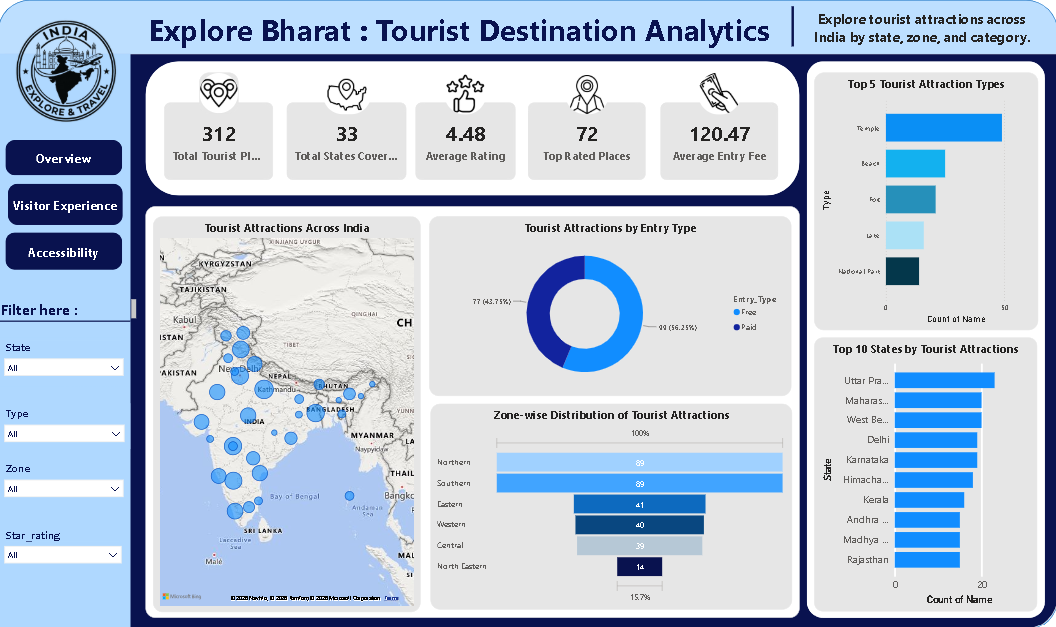

The page's visual inventory and layout, read from the dashboard file:
{"tool":"powerbi","page":{"name":"Tourism Overview ","canvas":[1730,1030],"ordinal":1},"visuals":[{"type":"shape","box":[0,0,1730.3,1029.2],"z":0},{"type":"shape","box":[9.6,88,1720.7,941.2],"z":1000},{"type":"shape","box":[240.1,100.8,1067.6,219.3],"z":2000,"group":"g2"},{"type":"shape","box":[1320.5,100.8,389,909.2],"z":2000},{"type":"shape","box":[0,88,216.1,941.2],"z":3000,"group":"g1"},{"type":"clusteredBarChart","title":"Top 10 States by Tourist Attractions","fields":{"Category":["Cleaned Dataset.State"],"Y":["CountNonNull(Cleaned Dataset.Name)"]},"box":[1332.4,551.5,363.9,447.3],"z":3000},{"type":"actionButton","box":[12.8,228.8,190.5,57.6],"z":4000,"group":"g1"},{"type":"shape","box":[240.1,337.7,1067.6,672.3],"z":4000},{"type":"barChart","title":"Top 5 Tourist Attraction Types","fields":{"Category":["Cleaned Dataset.Type"],"Y":["CountNonNull(Cleaned Dataset.Name)"]},"box":[1332.4,117.5,365.8,420.7],"z":5000},{"type":"actionButton","box":[16,299.2,187.3,67.2],"z":5000,"group":"g1"},{"type":"donutChart","title":"Tourist Attractions by Entry Type","fields":{"Category":["Cleaned Dataset.Entry_Type"],"Y":["CountNonNull(Cleaned Dataset.Name)"]},"box":[705,352.5,591.3,293.8],"z":6000},{"type":"actionButton","box":[12.8,379.3,190.5,60.8],"z":6000,"group":"g1"},{"type":"map","title":"Tourist Attractions Across India","fields":{"Category":["Cleaned Dataset.State"],"Size":["CountNonNull(Cleaned Dataset.Name)"]},"box":[252.9,352.1,437,646.7],"z":7000},{"type":"shape","box":[0.5,457.8,216.1,134.5],"z":7000,"group":"g1"},{"type":"textbox","box":[0,483.3,230.5,41.6],"z":8000,"group":"g1"},{"type":"funnel","title":"Zone-wise Distribution of Tourist Attractions","fields":{"Category":["Cleaned Dataset.Zone"],"Y":["CountNonNull(Cleaned Dataset.Name)"]},"box":[705.9,659.5,590.6,336.1],"z":8000},{"type":"group","id":"g1","title":"Group 1","box":[0,88,230.5,941.2],"z":9000},{"type":"slicer","fields":{"Values":["Cleaned Dataset.State"]},"box":[0.1,552.2,214.5,80],"z":9000,"group":"g1"},{"type":"group","id":"g2","title":"Group 2","box":[240.1,100.8,1067.6,219.3],"z":10000},{"type":"slicer","fields":{"Values":["Cleaned Dataset.Type"]},"box":[0.1,659.4,216.1,73.6],"z":10000,"group":"g1"},{"type":"group","id":"g3","title":"Group 3","box":[240.1,11.2,1469.4,76.8],"z":11000},{"type":"slicer","fields":{"Values":["Cleaned Dataset.Zone"]},"box":[0,749.1,214.5,78.4],"z":11000,"group":"g1"},{"type":"textbox","box":[240.1,11.2,1120.5,76.8],"z":12000,"group":"g3"},{"type":"slicer","fields":{"Values":["Cleaned Dataset.Star_rating"]},"box":[0,858,211.3,97.6],"z":12000},{"type":"textbox","box":[1307.7,11.2,401.8,76.8],"z":13000,"group":"g3"},{"type":"image","box":[0,27.2,220.9,180.9],"z":13000},{"type":"shape","box":[1272.5,11.2,48,65.6],"z":14000,"group":"g3"},{"type":"cardVisual","fields":{"Data":["Cleaned Dataset.Total Tourist Places"]},"box":[270.5,168,177.7,126.5],"z":15000,"group":"g2"},{"type":"cardVisual","fields":{"Data":["Cleaned Dataset.Total States Covered"]},"box":[470.6,168,195.3,126.5],"z":16000,"group":"g2"},{"type":"cardVisual","fields":{"Data":["Cleaned Dataset.Average Rating"]},"box":[681.9,168,163.3,126.5],"z":17000,"group":"g2"},{"type":"cardVisual","fields":{"Data":["Cleaned Dataset.Top Rated Places"]},"box":[864.4,168,192.1,126.5],"z":18000,"group":"g2"},{"type":"cardVisual","fields":{"Data":["Cleaned Dataset.Average Entry Fee"]},"box":[1080.4,168,192.1,126.5],"z":19000,"group":"g2"},{"type":"image","box":[328.1,120,64,67.2],"z":20000,"group":"g2"},{"type":"image","box":[529.8,123.2,78.4,64],"z":21000,"group":"g2"},{"type":"image","box":[728.3,118.4,68.8,68.8],"z":22000,"group":"g2"},{"type":"image","box":[925.2,123.2,70.4,64],"z":23000,"group":"g2"},{"type":"image","box":[1141.3,118.4,70.4,68.8],"z":24000,"group":"g2"}]}

Visuals, with their boxes in screenshot pixels (x1, y1, x2, y2), scaled from the page's 1730x1030 canvas onto the 1056x627 screenshot:
shape: box(0, 0, 1055, 626)
shape: box(6, 54, 1055, 626)
shape: box(147, 61, 798, 195)
shape: box(806, 61, 1043, 615)
shape: box(0, 54, 132, 626)
"Top 10 States by Tourist Attractions" clusteredBarChart: box(813, 336, 1035, 608)
actionButton: box(8, 139, 124, 174)
shape: box(147, 206, 798, 615)
"Top 5 Tourist Attraction Types" barChart: box(813, 72, 1037, 328)
actionButton: box(10, 182, 124, 223)
"Tourist Attractions by Entry Type" donutChart: box(430, 215, 791, 393)
actionButton: box(8, 231, 124, 268)
"Tourist Attractions Across India" map: box(154, 214, 421, 608)
shape: box(0, 279, 132, 361)
textbox: box(0, 294, 141, 320)
"Zone-wise Distribution of Tourist Attractions" funnel: box(431, 401, 791, 606)
"Group 1" group: box(0, 54, 141, 626)
slicer - Cleaned Dataset.State: box(0, 336, 131, 385)
"Group 2" group: box(147, 61, 798, 195)
slicer - Cleaned Dataset.Type: box(0, 401, 132, 446)
"Group 3" group: box(147, 7, 1043, 54)
slicer - Cleaned Dataset.Zone: box(0, 456, 131, 504)
textbox: box(147, 7, 831, 54)
slicer - Cleaned Dataset.Star_rating: box(0, 522, 129, 582)
textbox: box(798, 7, 1043, 54)
image: box(0, 17, 135, 127)
shape: box(777, 7, 806, 47)
cardVisual - Cleaned Dataset.Total Tourist Places: box(165, 102, 274, 179)
cardVisual - Cleaned Dataset.Total States Covered: box(287, 102, 406, 179)
cardVisual - Cleaned Dataset.Average Rating: box(416, 102, 516, 179)
cardVisual - Cleaned Dataset.Top Rated Places: box(528, 102, 645, 179)
cardVisual - Cleaned Dataset.Average Entry Fee: box(659, 102, 777, 179)
image: box(200, 73, 239, 114)
image: box(323, 75, 371, 114)
image: box(445, 72, 487, 114)
image: box(565, 75, 608, 114)
image: box(697, 72, 740, 114)
